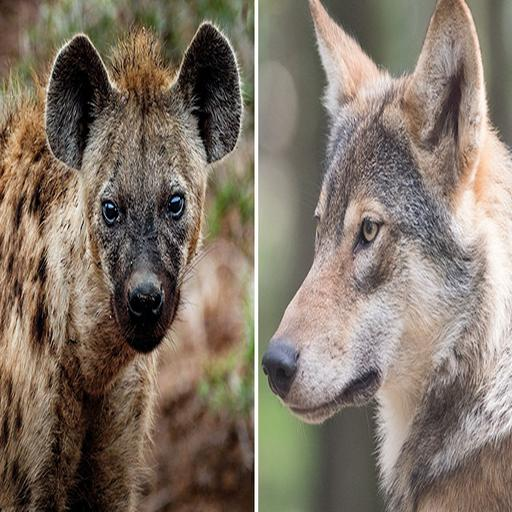Hyena: (0, 0, 253, 512)
Wolf: (263, 0, 512, 512)
